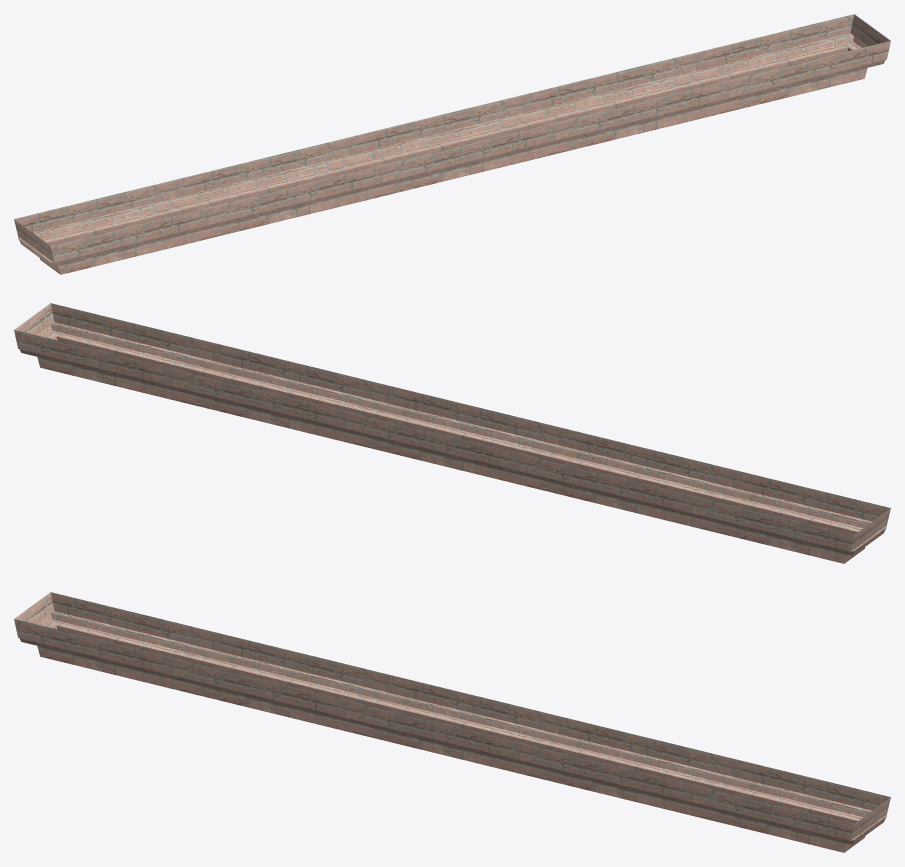
Rendered from BeamBig.fbx.
3 renders of one model, top to bottom at view 1: azimuth 30°, elevation 25°; view 2: azimuth 150°, elevation 25°; view 3: azimuth 330°, elevation 25°, orthographic.
Parts seen in each view (by area): view 1: BeamBig; view 2: BeamBig; view 3: BeamBig.
Boxes of the visible parts, x1,y1,x2,y2 form: BeamBig: [14, 14, 890, 274]; BeamBig: [14, 303, 890, 563]; BeamBig: [14, 592, 890, 852].
Bounding box in the file's own units: 1414 × 63.08 × 107.
1 material, 1 textured.
